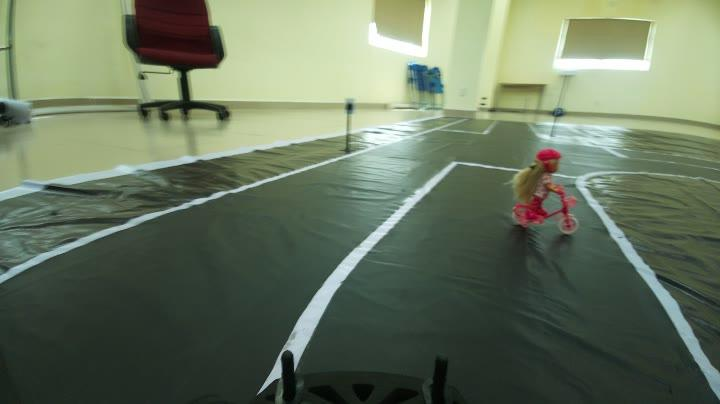pedestrian: (503, 148, 586, 234)
